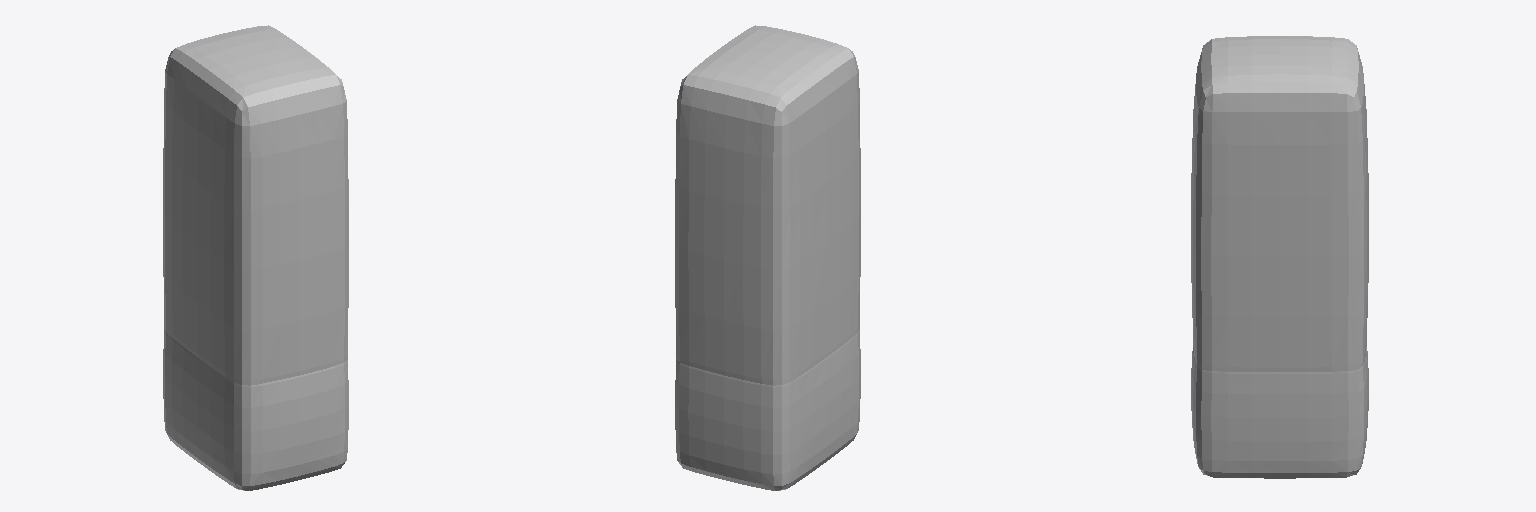
The model's file is leg2.obj.
The picture shows the model from 3 angles: view 1: azimuth 30°, elevation 25°; view 2: azimuth 150°, elevation 25°; view 3: azimuth 270°, elevation 25°; orthographic projection.
Parts seen in each view (by area): view 1: polySurface4; view 2: polySurface4; view 3: polySurface4.
Boxes of the visible parts, x1,y1,x2,y2 form: polySurface4: [163, 25, 348, 490]; polySurface4: [675, 25, 860, 490]; polySurface4: [1191, 36, 1368, 478].
Bounding box in the file's own units: 0.4796 × 1.56 × 0.6251.